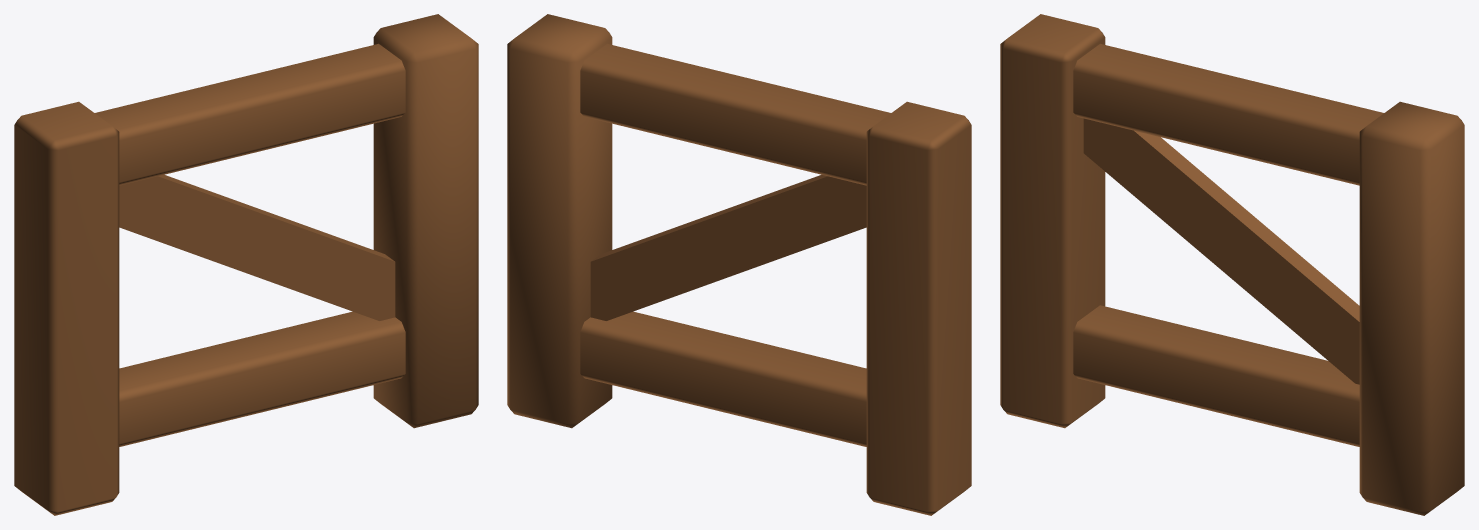
The model's file is FenceAEnd.fbx.
3 renders of one model, left to right at view 1: azimuth 30°, elevation 25°; view 2: azimuth 150°, elevation 25°; view 3: azimuth 330°, elevation 25°, orthographic.
Parts seen in each view (by area): view 1: FenceAEnd; view 2: FenceAEnd; view 3: FenceAEnd.
Part boxes in pixels (bbox=[...]): FenceAEnd: bbox=[14, 14, 478, 515]; FenceAEnd: bbox=[507, 14, 971, 515]; FenceAEnd: bbox=[1000, 14, 1464, 515].
Bounding box in the file's own units: 120 × 100 × 20.
